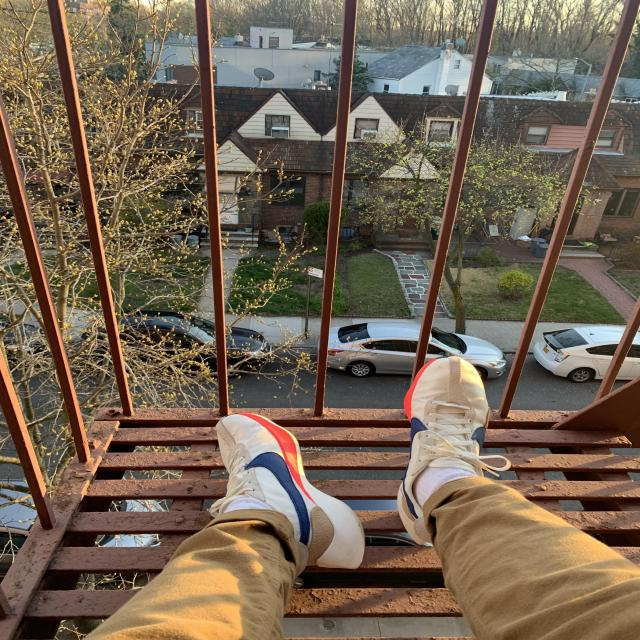shoe: (207, 413, 370, 573), (393, 352, 509, 546)
